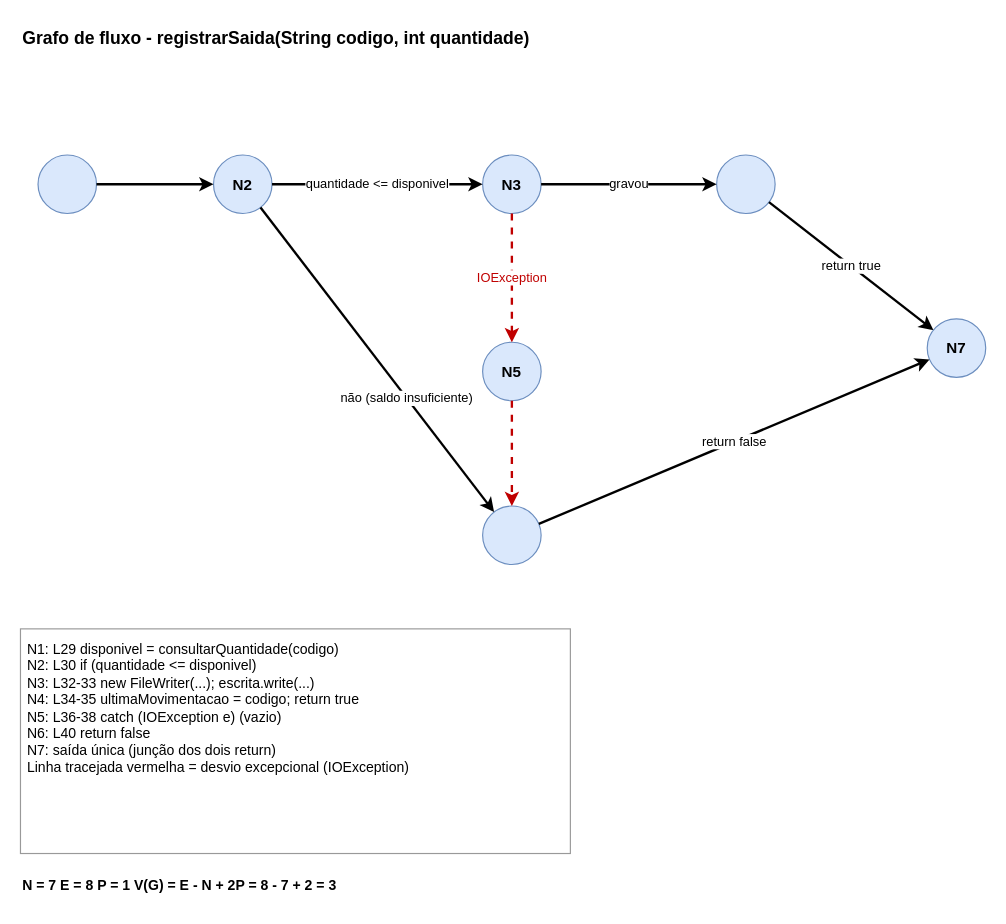
The diagram is 1006 pixels wide and 924 high, and some of its shapes have lost their labels. Here are the shapes that lost their labels. From the top down, the centre of each, then its label:
the point at 67,184: N1
the point at 745,184: N4
the point at 511,535: N6
